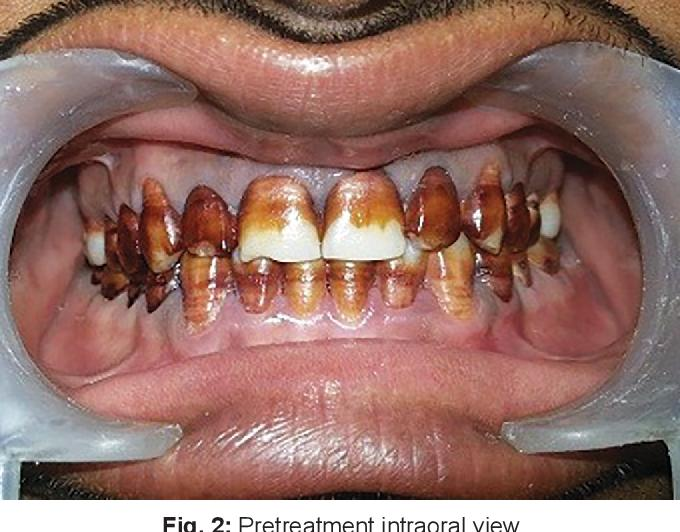LLCI_sdecay: (326, 261, 373, 322)
LLC_sdecay: (431, 259, 477, 323)
LLLI_sdecay: (374, 258, 427, 316)
LRCI_sdecay: (281, 262, 326, 322)
LRC_sdecay: (180, 256, 231, 334)
LRLI_sdecay: (231, 260, 282, 318)
UL1BC_sdecay: (507, 179, 530, 254)
ULCI_sdecay: (322, 167, 408, 260)
ULC_sdecay: (461, 161, 505, 252)
ULLI_sdecay: (407, 168, 461, 251)
UR1BC_sdecay: (114, 200, 142, 274)
URCI_sdecay: (236, 169, 322, 261)
URC_sdecay: (139, 173, 182, 273)
URLI_sdecay: (180, 179, 237, 256)
